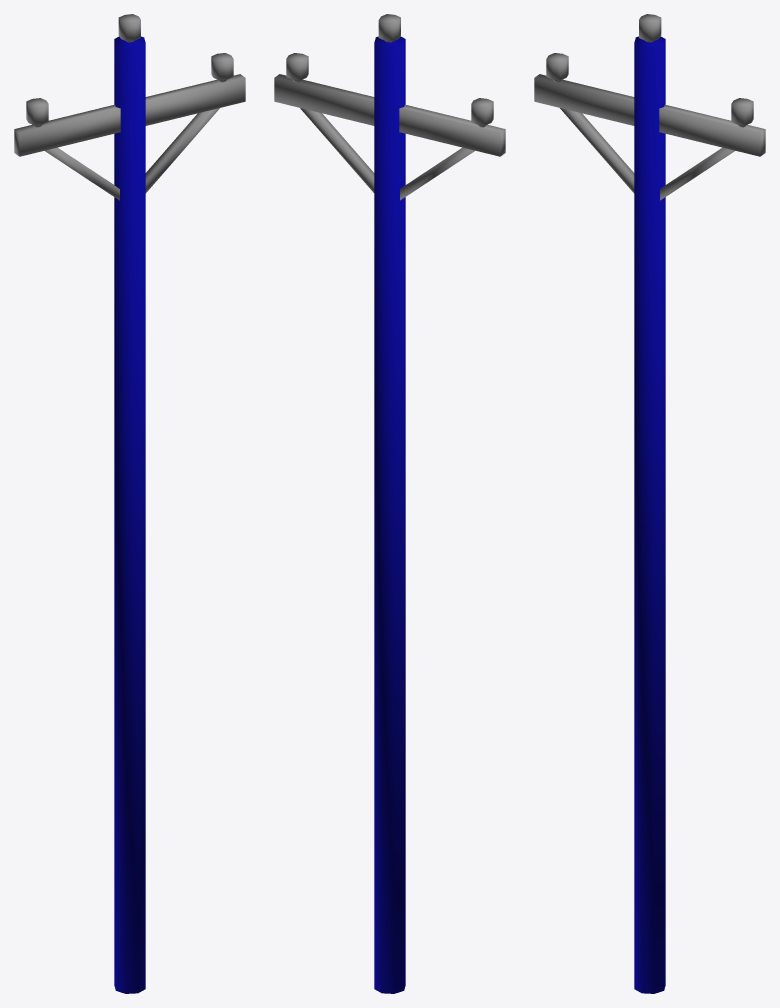
The model's file is bluepylon.dae.
3 renders of one model, left to right at view 1: azimuth 30°, elevation 25°; view 2: azimuth 150°, elevation 25°; view 3: azimuth 330°, elevation 25°, orthographic.
Parts seen in each view (by area): view 1: Pylon; view 2: Pylon; view 3: Pylon.
Part boxes in pixels (x1,y1,x2,y2): Pylon: (14,14,245,993); Pylon: (274,14,505,993); Pylon: (534,14,765,993).
Bounding box in the file's own units: 2 × 0.25 × 8.19.
